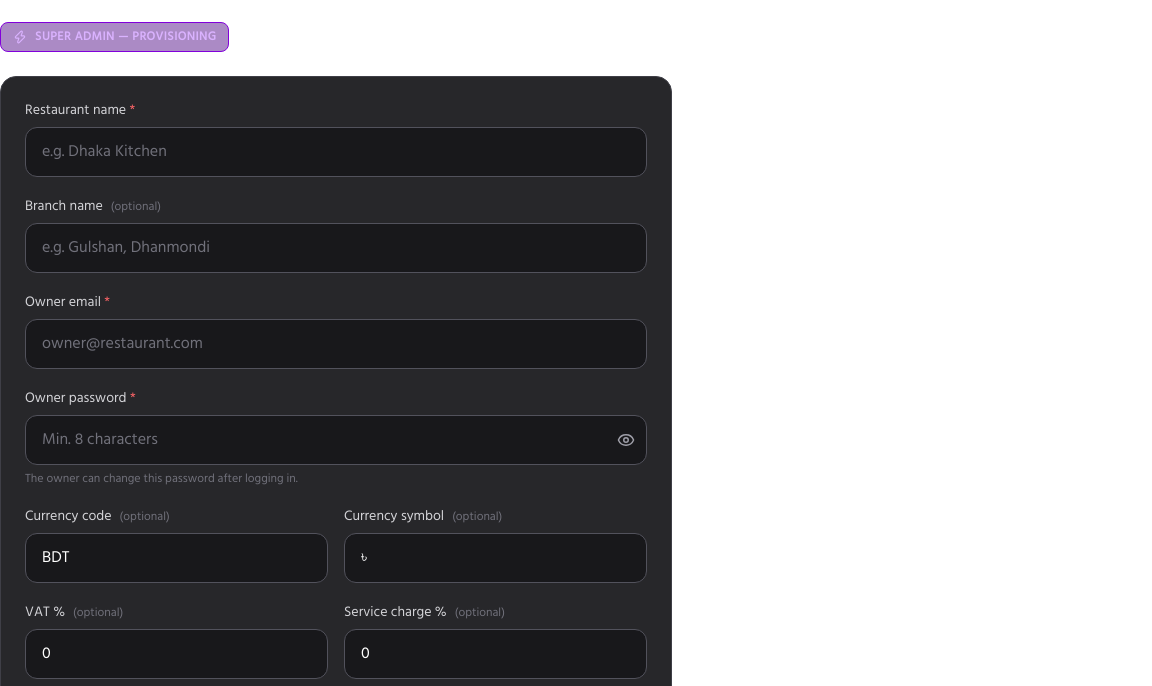
Test: ProvisionRestaurantForm — validation › shows error when password is too short
Type "Test Restaurant" into the field labelled "Restaurant name *".
click(336, 152); type("Test Restaurant")  # box [25, 127, 647, 177]
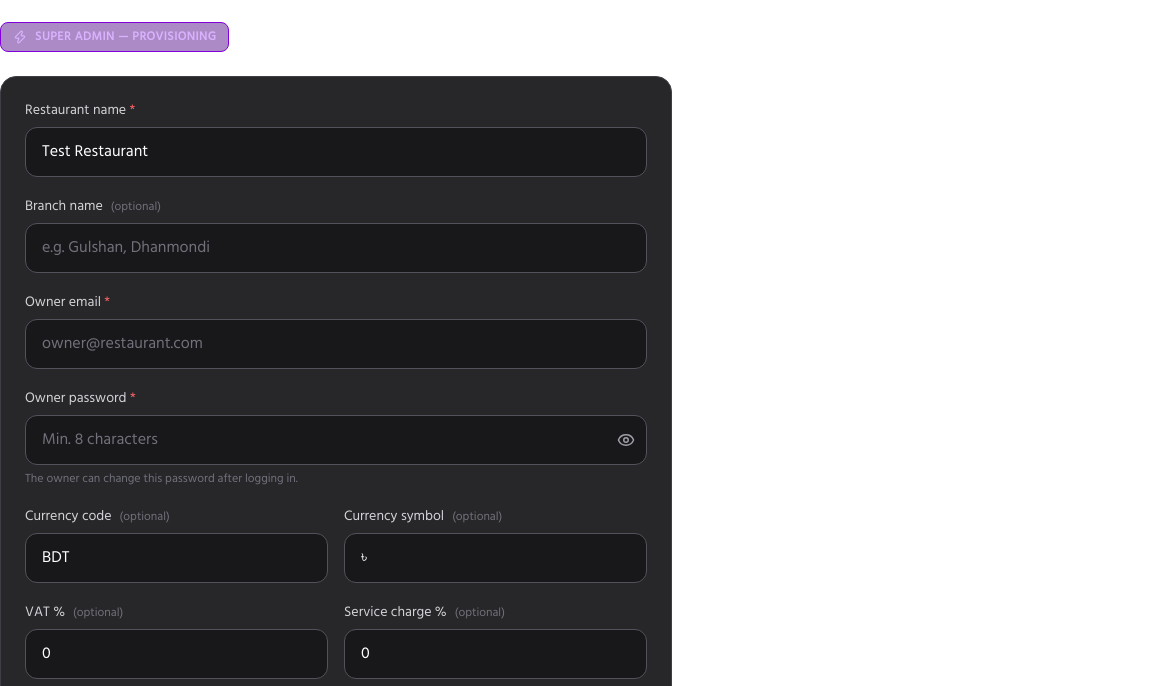
Type "owner@test.com" into the field labelled "Owner email *".
click(336, 344); type("owner@test.com")  # box [25, 319, 647, 369]
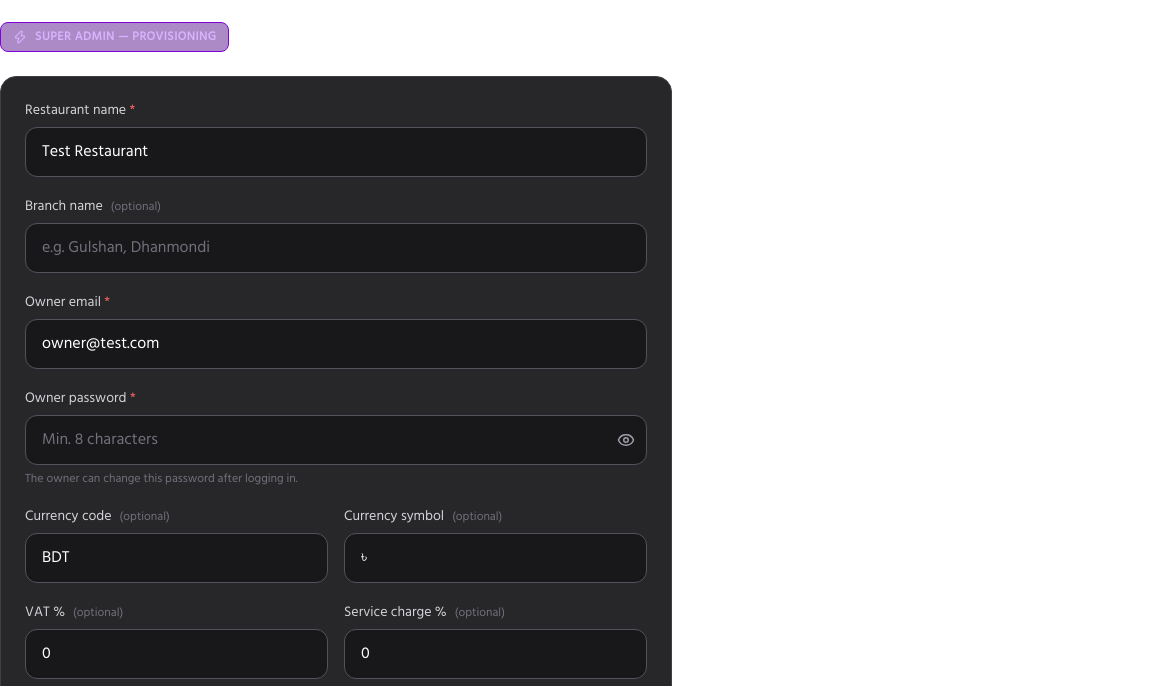
Type "short" into the password field labelled "Owner password *".
click(336, 440); type("short")  # box [25, 415, 647, 465]
(page scrolled)
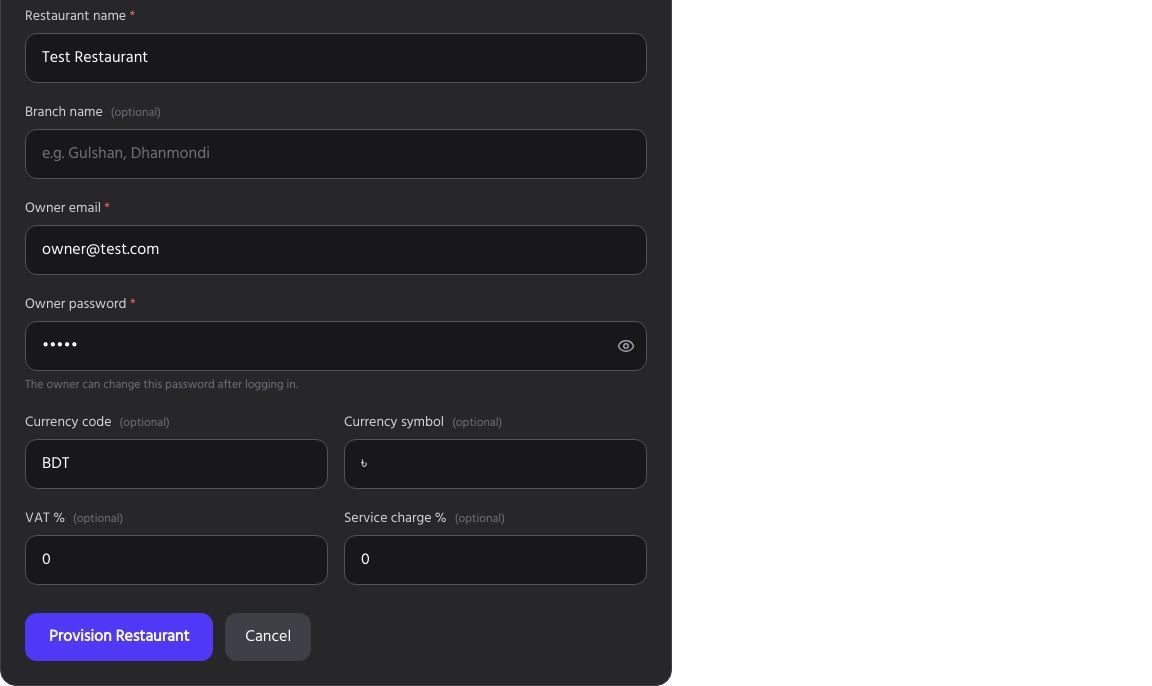
Click the button "Provision Restaurant".
click(119, 637)  # box [25, 613, 213, 661]
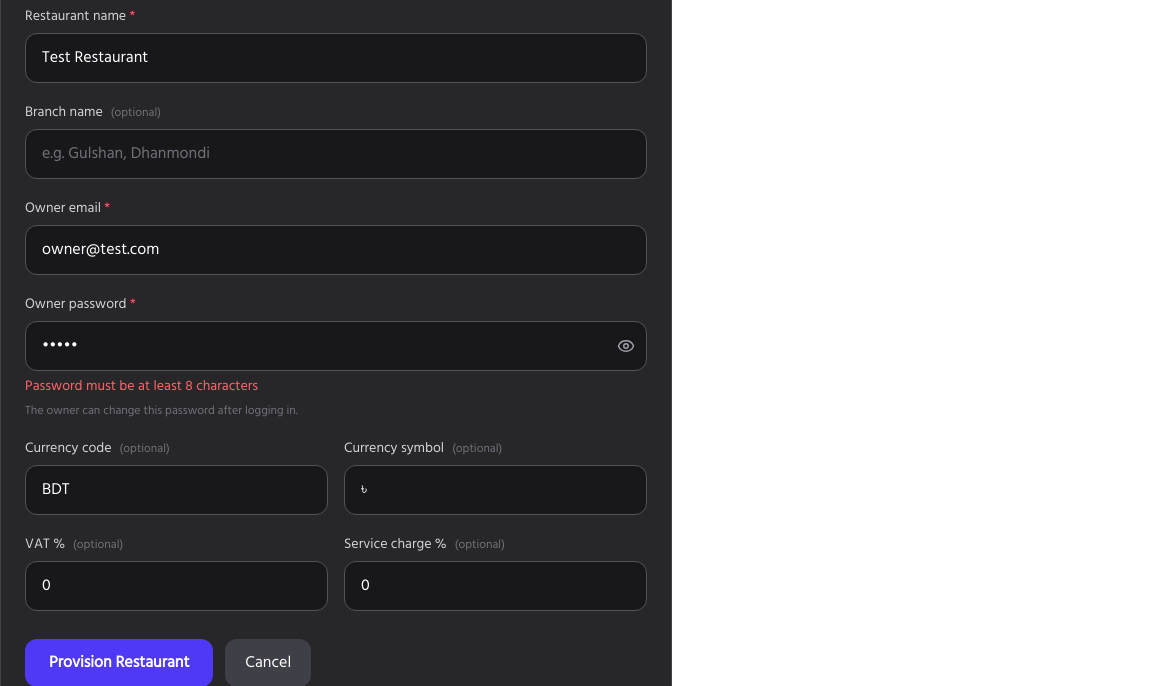
Expected: the text "Password must be at least 8 characters" is shown, [25, 375, 258, 398]
